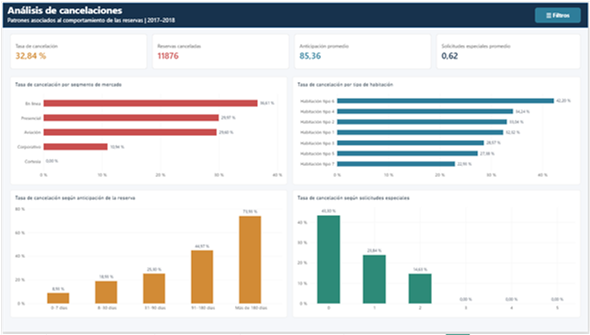

The page's visual inventory and layout, read from the dashboard file:
{"tool":"powerbi","page":{"name":"Análisis de cancelaciones","canvas":[1920,1080],"ordinal":1},"visuals":[{"type":"shape","box":[0,0,1920,82],"z":0},{"type":"textbox","box":[15,0,1905,82],"z":1000},{"type":"cardVisual","title":"Tasa de cancelación","fields":{"Data":["Medidas.Tasa_Cancelacion"]},"box":[24,102,450,116.3],"z":2000},{"type":"cardVisual","title":"Total de reservas","fields":{"Data":["Medidas.Reservas_Canceladas"]},"box":[490,102,450,116.3],"z":3000},{"type":"cardVisual","title":"Total de reservas","fields":{"Data":["Medidas.Lead_Time_Promedio"]},"box":[956,102,450,116.3],"z":4000},{"type":"cardVisual","title":"Total de reservas","fields":{"Data":["Medidas.Solicitudes_Especiales_Promedio"]},"box":[1422,102,474,116.3],"z":5000},{"type":"clusteredBarChart","title":"Tasa de cancelación por segmento de mercado","fields":{"Category":["Fact_Reservas.Segmento_Mercado_Es"],"Y":["Medidas.Tasa_Cancelacion"]},"box":[24,242,910,355],"z":6000},{"type":"clusteredBarChart","title":"Tasa de cancelación por tipo de habitación","fields":{"Category":["Fact_Reservas.Tipo_Habitacion_Es"],"Y":["Medidas.Tasa_Cancelacion"]},"box":[950,242,946,355],"z":7000},{"type":"clusteredColumnChart","title":"Tasa de cancelación según anticipación de la reserva","fields":{"Category":["Fact_Reservas.Rango_Lead_Time"],"Y":["Medidas.Tasa_Cancelacion"]},"box":[24,613,910,419],"z":8000},{"type":"clusteredColumnChart","title":"Tasa de cancelación según solicitudes especiales","fields":{"Category":["Fact_Reservas.no_of_special_requests"],"Y":["Medidas.Tasa_Cancelacion"]},"box":[950,613,946,419],"z":9000},{"type":"actionButton","box":[1745,15,150,50],"z":10000}]}

Visuals, with their boxes in screenshot pixels (x1, y1, x2, y2), scaled from the page's 1920x1080 canvas onto the 590x335 screenshot:
shape: detection(0, 0, 589, 25)
textbox: detection(5, 0, 589, 25)
"Tasa de cancelación" cardVisual: detection(7, 32, 146, 68)
"Total de reservas" cardVisual: detection(151, 32, 289, 68)
"Total de reservas" cardVisual: detection(294, 32, 432, 68)
"Total de reservas" cardVisual: detection(437, 32, 583, 68)
"Tasa de cancelación por segmento de mercado" clusteredBarChart: detection(7, 75, 287, 185)
"Tasa de cancelación por tipo de habitación" clusteredBarChart: detection(292, 75, 583, 185)
"Tasa de cancelación según anticipación de la reserva" clusteredColumnChart: detection(7, 190, 287, 320)
"Tasa de cancelación según solicitudes especiales" clusteredColumnChart: detection(292, 190, 583, 320)
actionButton: detection(536, 5, 582, 20)
